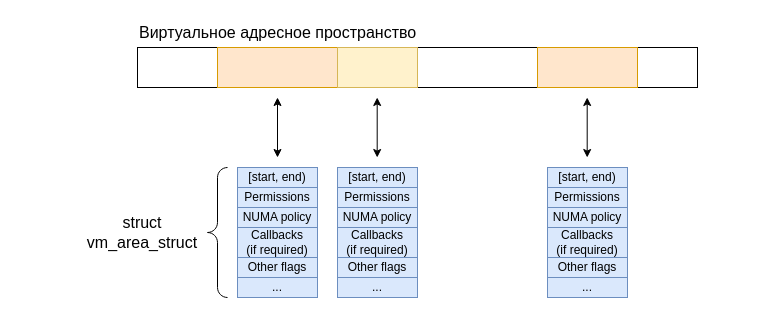
This 774x315 diagram has some shape labels left out. The centre of each missing label's shape, as x and y in pixels:
"VMA 1" goes at (277,67).
"VMA 2" goes at (377,67).
"VMA 3" goes at (587,67).
